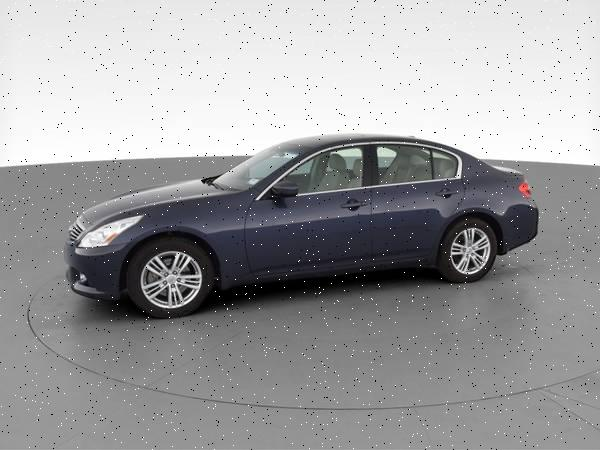Front_Bumper: (61, 244, 130, 303)
Front_Fender: (113, 192, 256, 290)
Front_Left_Door: (247, 187, 376, 279)
Front_Left_Window: (262, 144, 374, 198)
Front_Windshield: (208, 145, 304, 197)
Grille: (66, 220, 85, 246)
Hood: (80, 179, 242, 231)
Left_Headlight: (75, 215, 141, 251)
Left_Taillight: (519, 179, 531, 197)
Rear_Bumper: (495, 199, 539, 253)
Rear_Fender: (456, 172, 532, 219)
Rear_Left_Door: (375, 178, 465, 267)
Rear_Left_Window: (374, 142, 458, 185)
Roof: (252, 133, 515, 199)
Wheel: (126, 237, 217, 318), (443, 217, 499, 278)
